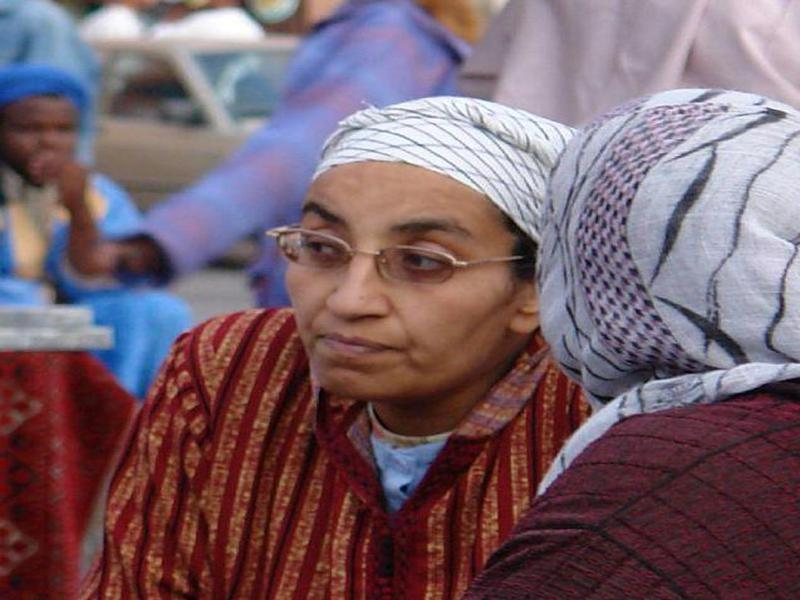person: (81, 89, 619, 599), (455, 86, 800, 600)
